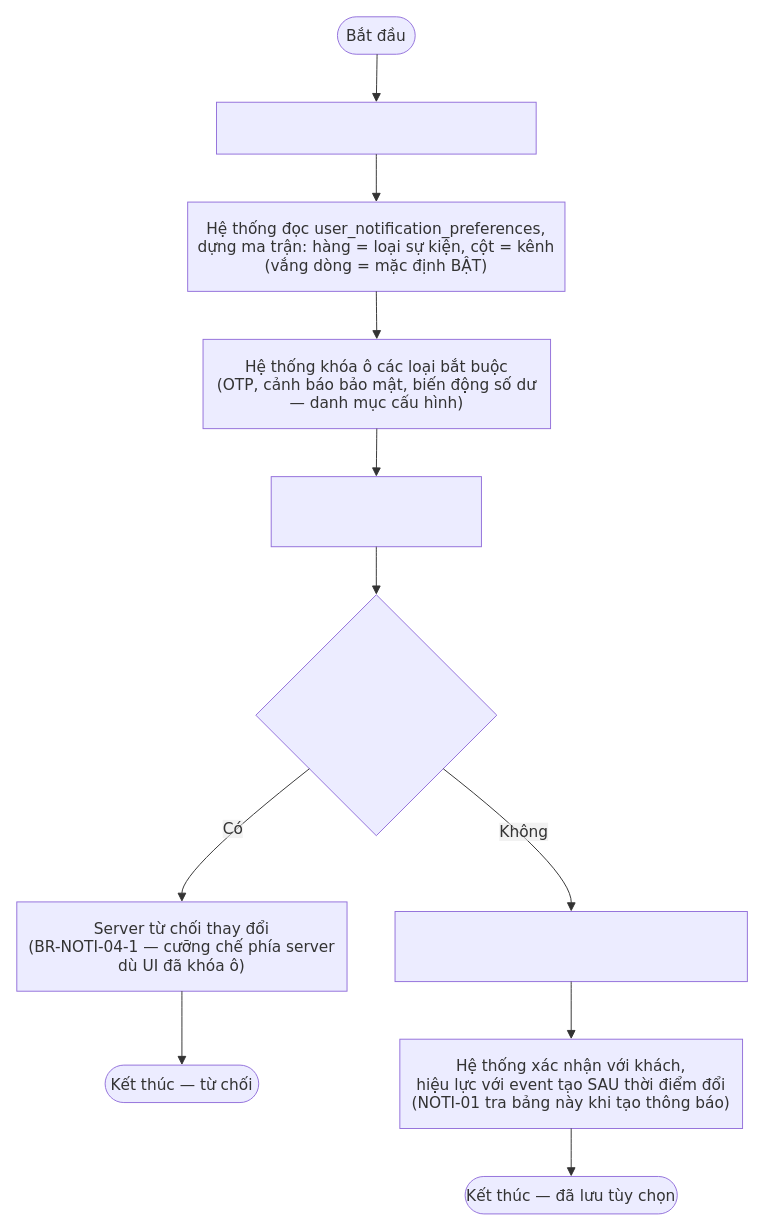
This 764x1231 diagram has some shape labels left out. Here are the shapes that lost their labels. From the top down, the centre of each, then its label:
[376,127]: Khách mở màn hình cài đặt thông báo
[375,511]: Khách tắt/bật một ô (event_type, channel)
[376,715]: Event_type thuộc danh mục bắt buộc?
[570,946]: Hệ thống upsert dòng preference (user_id tham chiếu mềm sang auth.users)
